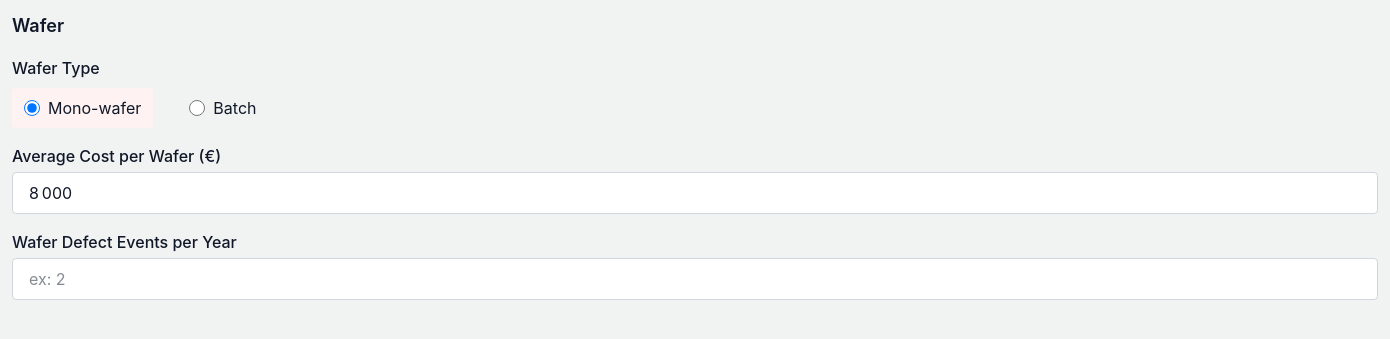
Test: WaferInputs › shows error for decimal defect events
This screenshot has width=1390, height=339.
Type "2.5" into the number field labelled "Wafer Defect Events per Year" at (695, 279), box [12, 258, 1378, 300]
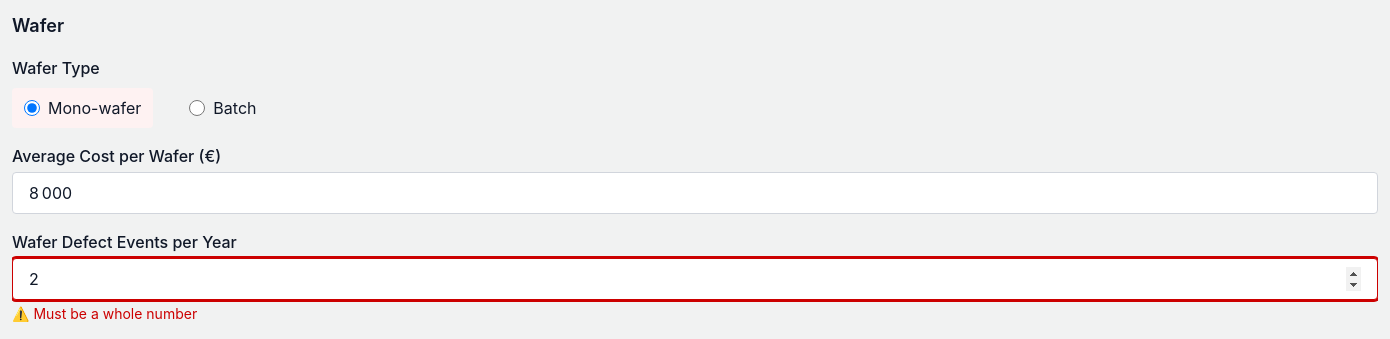
Expected: the text "⚠️ Must be a whole number" is shown, [12, 305, 197, 322]
